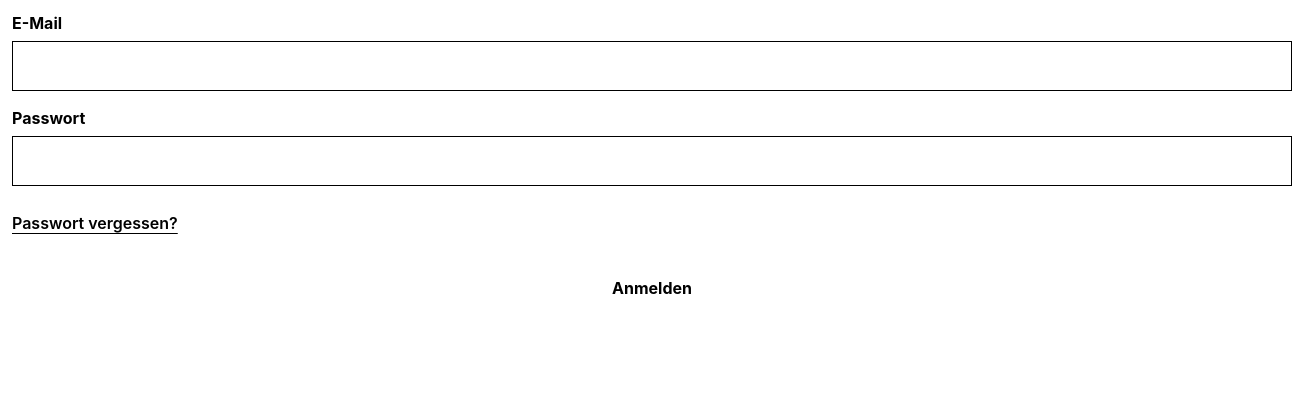
Test case: login form with a preset (#443) › shows a failed login above the form
Type "giulia@example.com" into the field named "email" at (652, 66), box x1=12 y1=41 x2=1292 y2=91
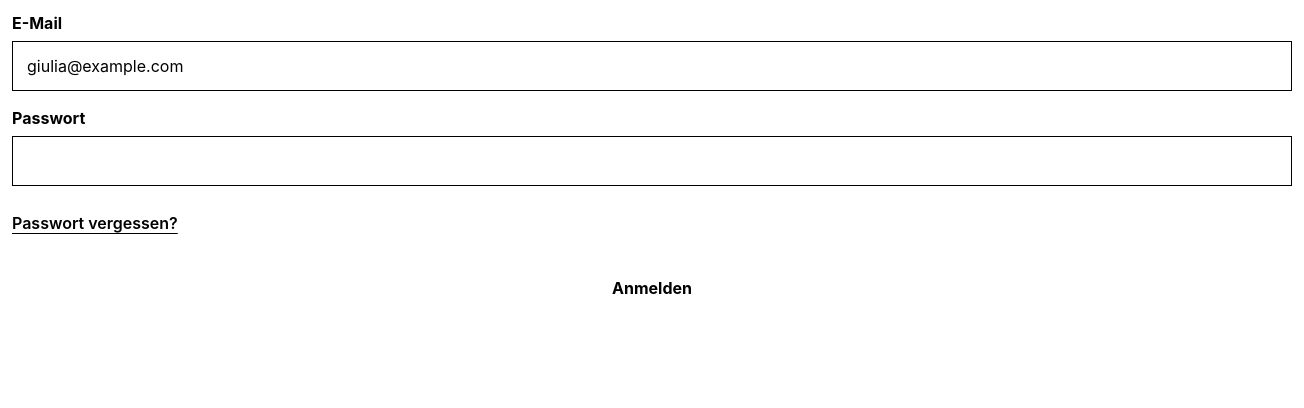
Type "geheim1234" into the password field named "password" at (652, 161), box x1=12 y1=136 x2=1292 y2=186
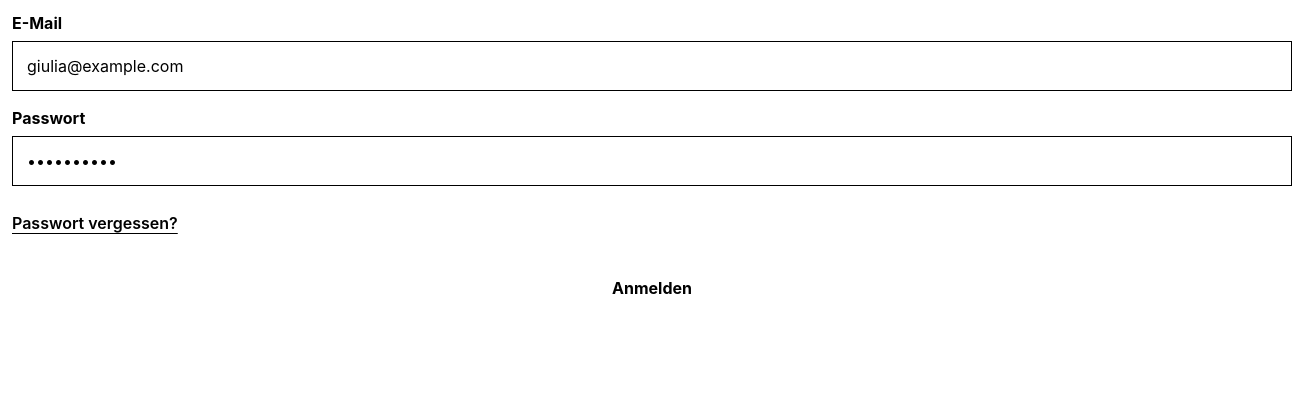
Submit the form
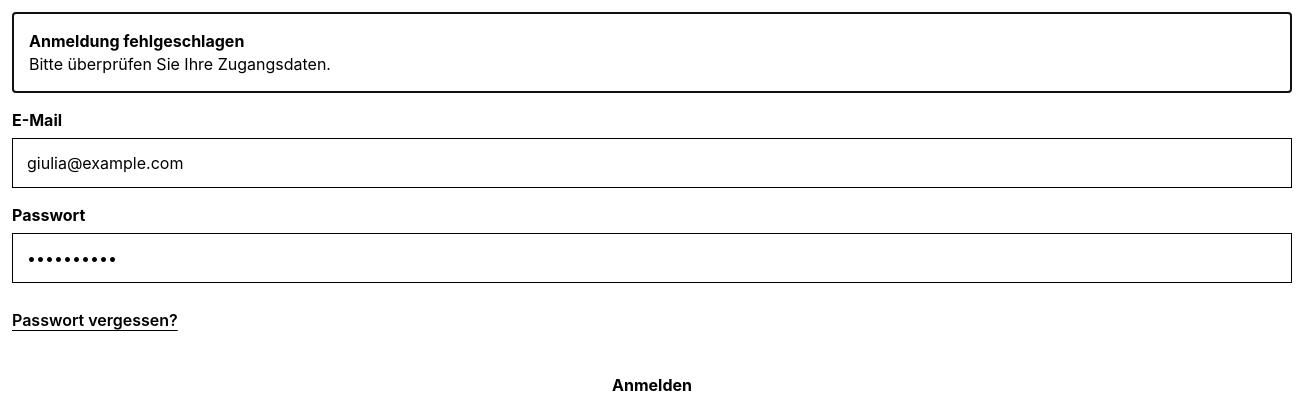
Expected: the message "Anmeldung fehlgeschlagen Bitte überprüfen Sie Ihre Zugangsdaten." is shown, x1=12 y1=12 x2=1292 y2=93
